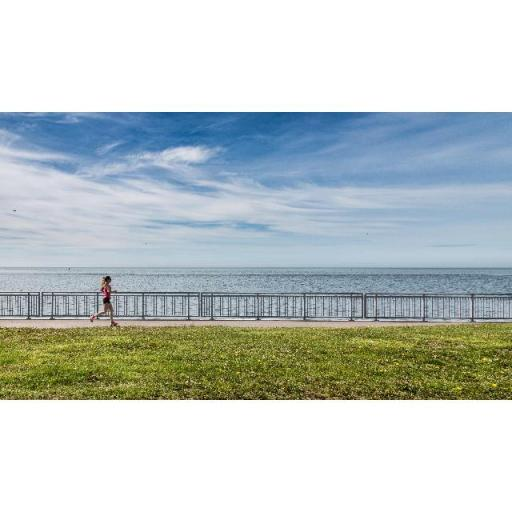Running: (88, 270, 124, 332)
